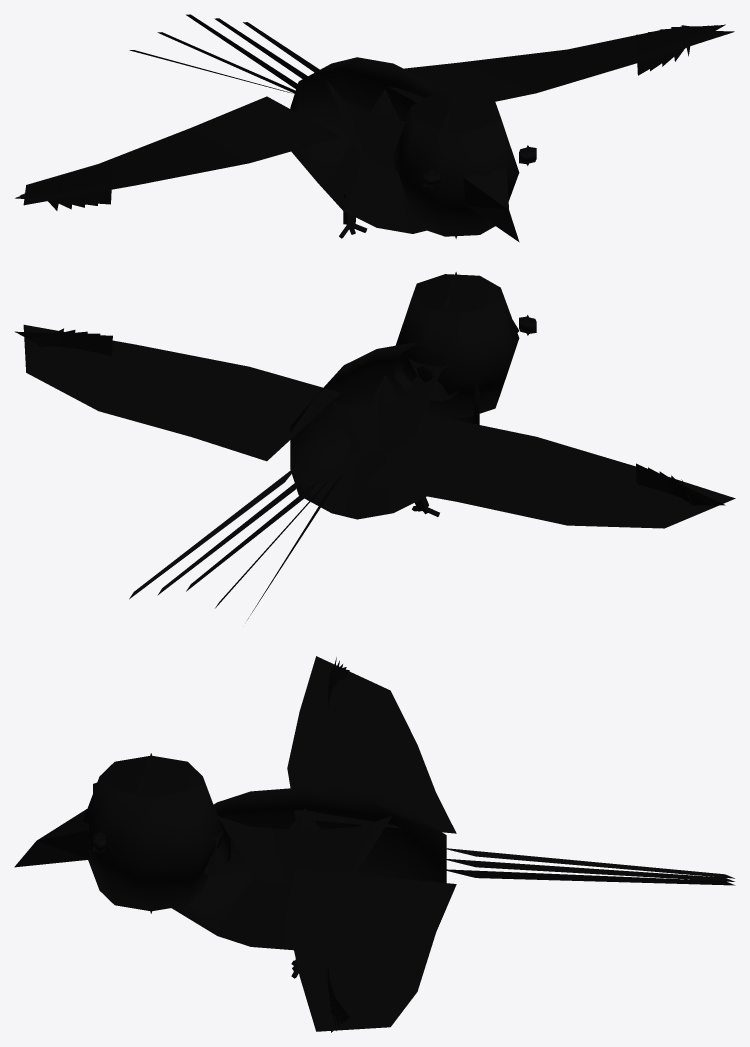
File: gliding_06.glb
3 renders of one model, top to bottom at view 1: azimuth 30°, elevation 25°; view 2: azimuth 150°, elevation 25°; view 3: azimuth 270°, elevation 25°, orthographic. The views are drawn at different scales.
Visible parts, largest first — view 1: RaptorBody; view 2: RaptorBody; view 3: RaptorBody.
Boxes of the visible parts, left/top/right/bottom form: RaptorBody: left=15, top=14, right=734, bottom=242; RaptorBody: left=14, top=272, right=735, bottom=619; RaptorBody: left=14, top=656, right=735, bottom=1032.
Bounding box in the file's own units: 1.25 × 0.3153 × 1.01.
7 materials, 7 textured.
